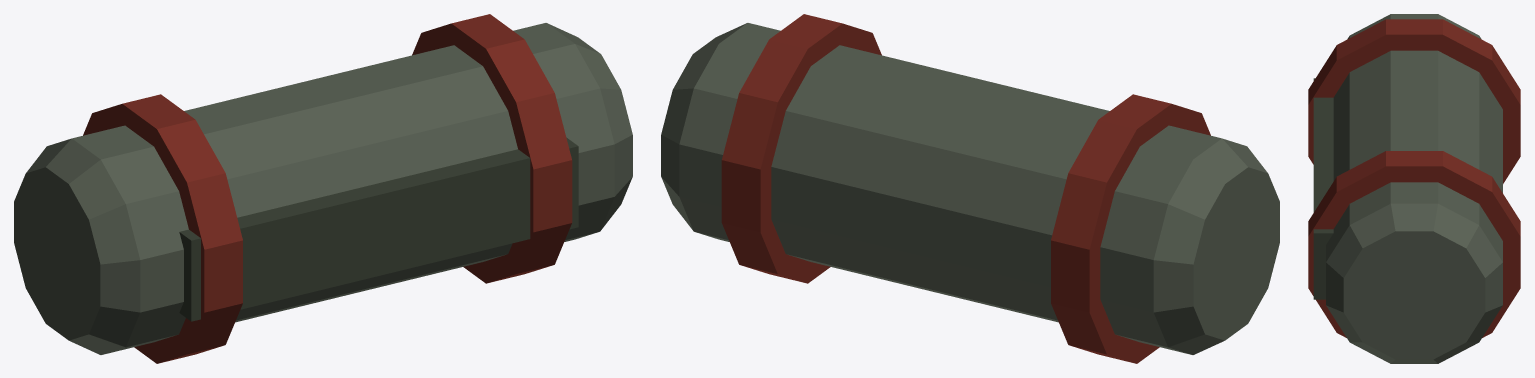
The model's file is s150_starter.obj.
3 renders of one model, left to right at view 1: azimuth 30°, elevation 25°; view 2: azimuth 150°, elevation 25°; view 3: azimuth 270°, elevation 25°, orthographic. The views are drawn at different scales.
Parts seen in each view (by area): view 1: s150_starter; view 2: s150_starter; view 3: s150_starter.
Part boxes in pixels (x1,y1,x2,y2): s150_starter: (14,14,632,363); s150_starter: (661,14,1279,363); s150_starter: (1308,14,1520,363).
Size of the model in its own units: 1.04 by 0.4395 by 0.4395.
